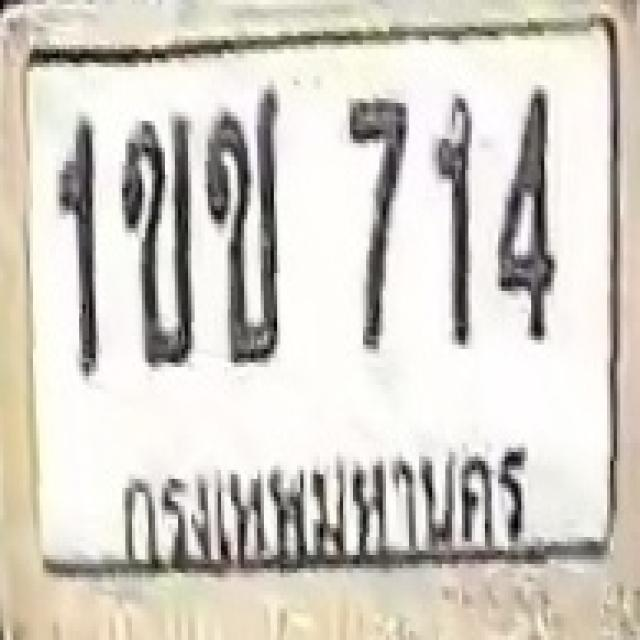-: (203, 85, 282, 363), (117, 112, 193, 367)
1: (429, 92, 475, 342), (56, 119, 99, 378)
4: (495, 83, 557, 342)
7: (343, 94, 409, 354)
BKK: (102, 433, 540, 585)
